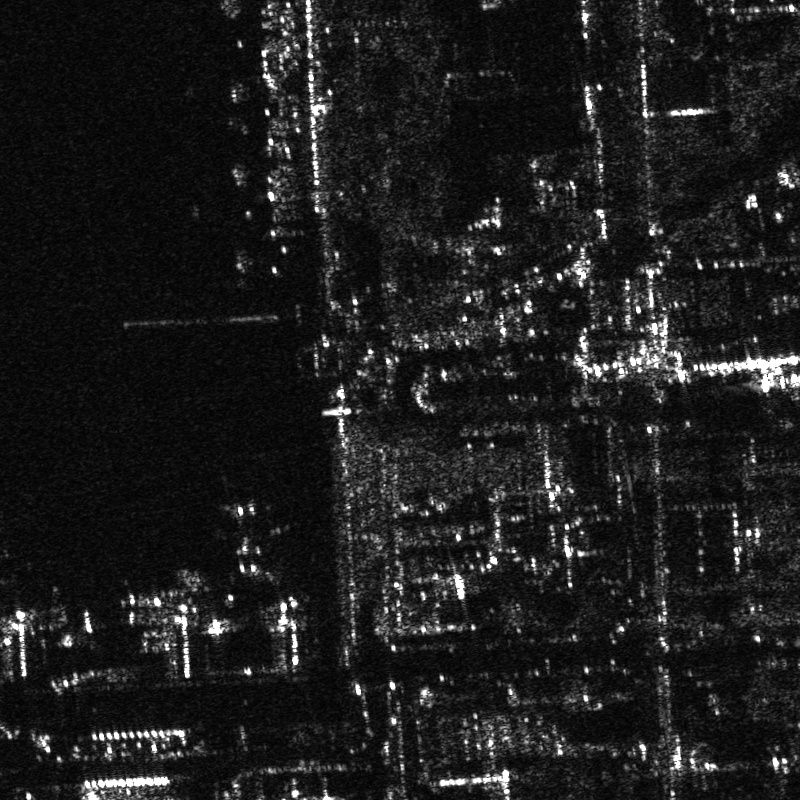A220: (216, 495, 288, 582)
